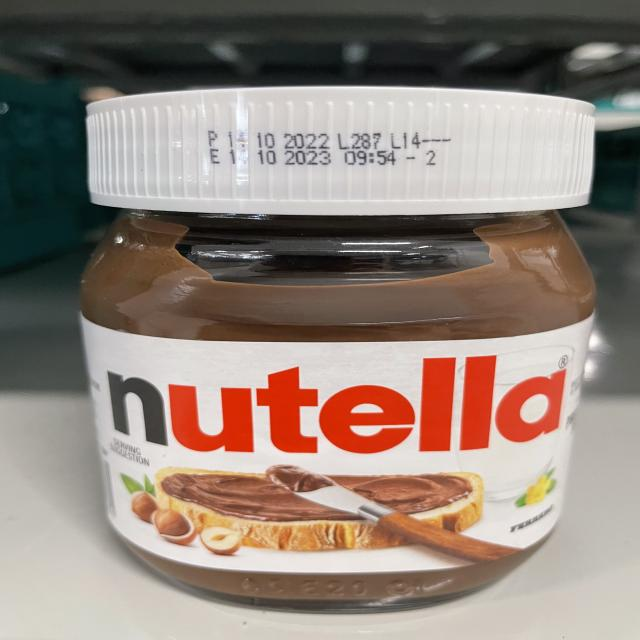object_name: (83, 103, 583, 600)
